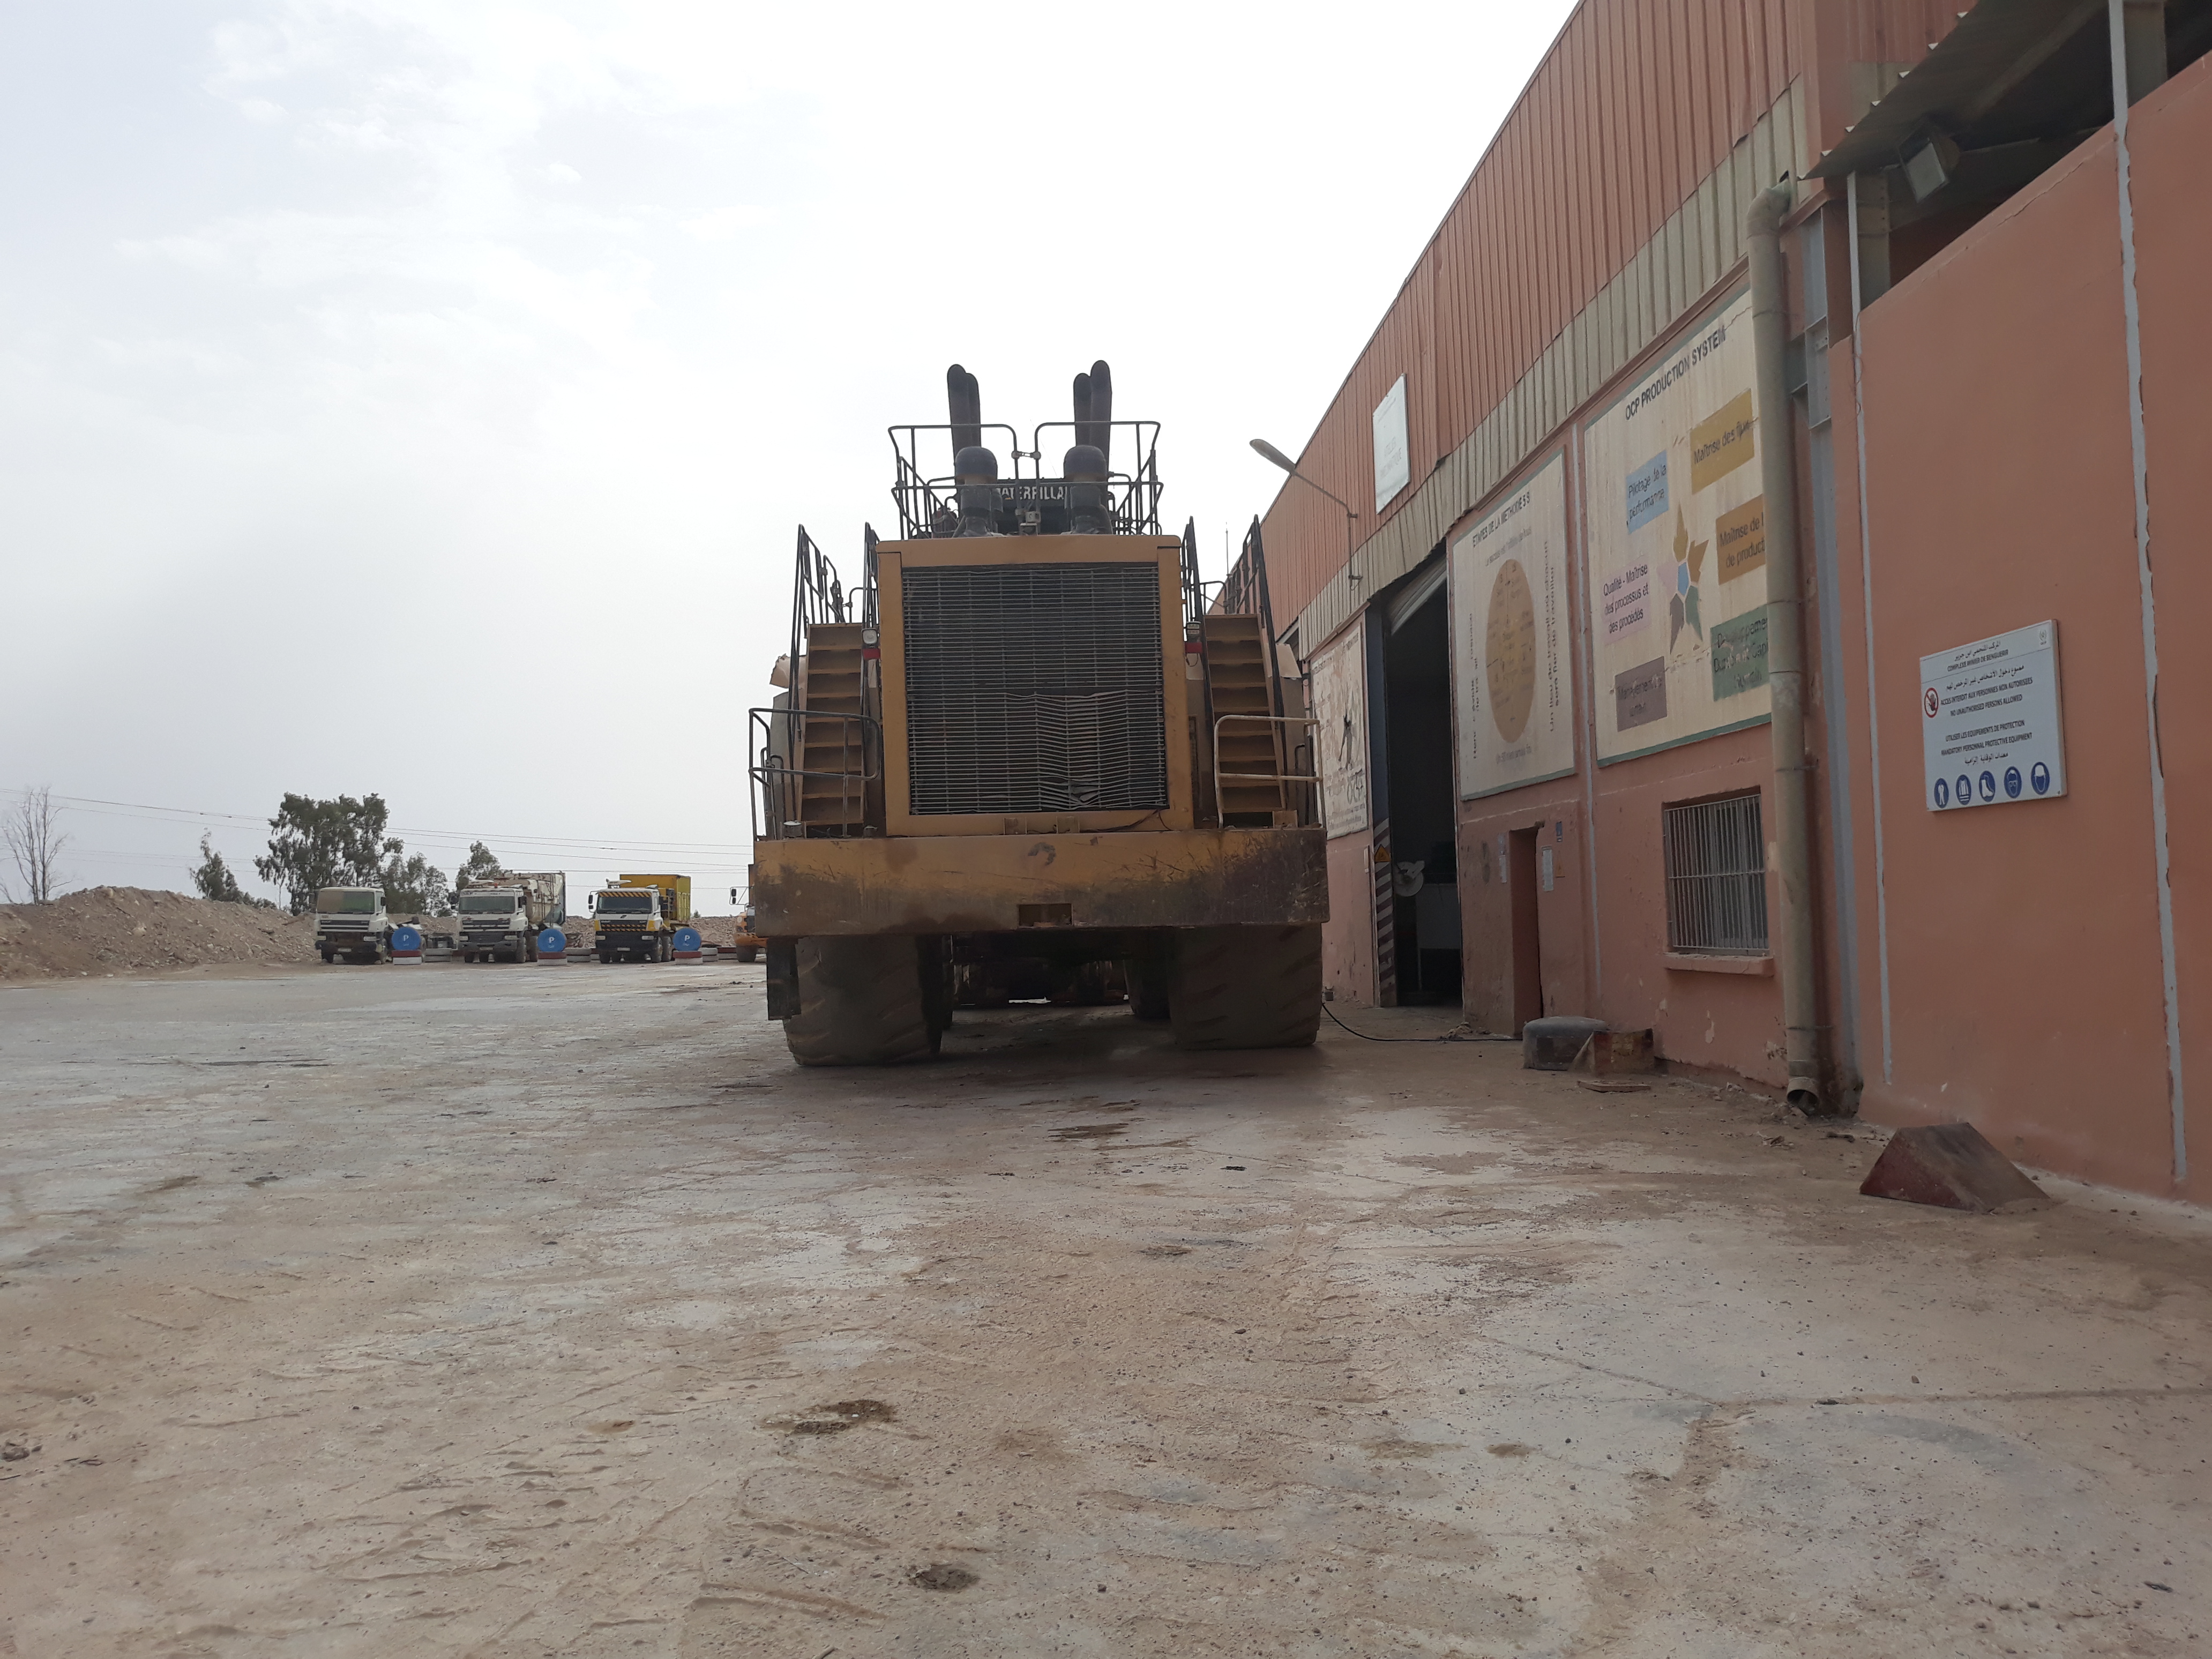chargeuse: (721, 321, 1379, 1094)
